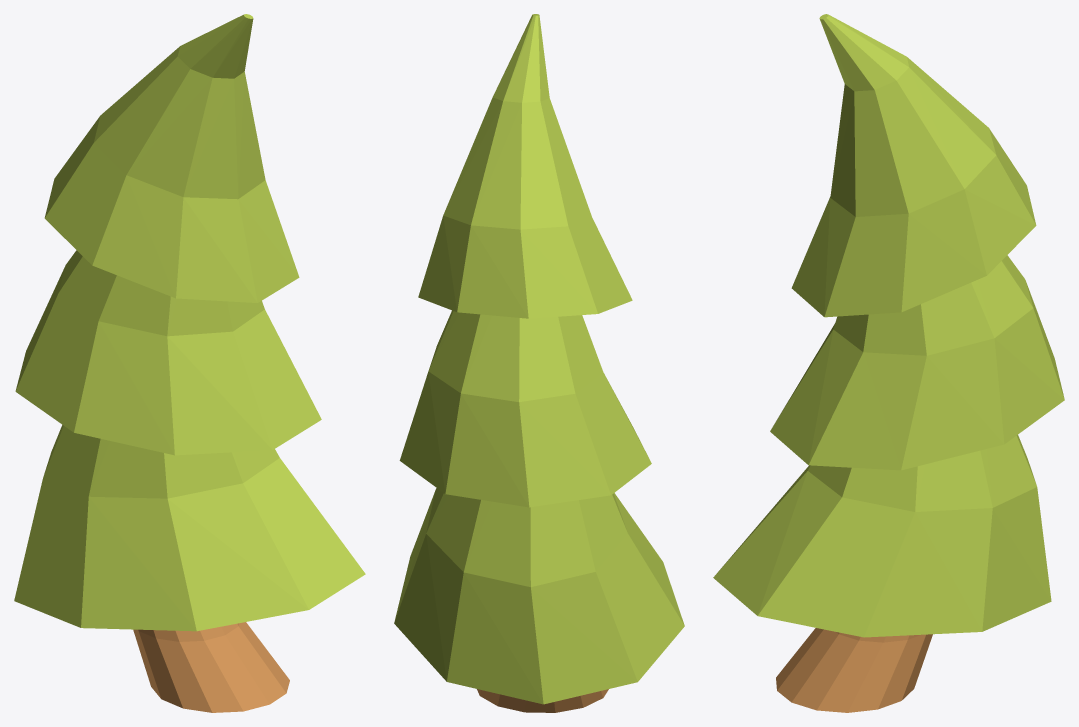
Rendered from tree-4.fbx.
The picture shows the model from 3 angles, left to right: view 1: azimuth 30°, elevation 25°; view 2: azimuth 150°, elevation 25°; view 3: azimuth 270°, elevation 25°; orthographic projection. The views are drawn at different scales.
Visible parts, largest first — view 1: Circle.011; view 2: Circle.011; view 3: Circle.011.
Part boxes in pixels (bbox=[...]): Circle.011: bbox=[14, 14, 365, 712]; Circle.011: bbox=[394, 14, 684, 712]; Circle.011: bbox=[713, 14, 1064, 712].
Bounding box in the file's own units: 21.84 × 50.54 × 23.82.
